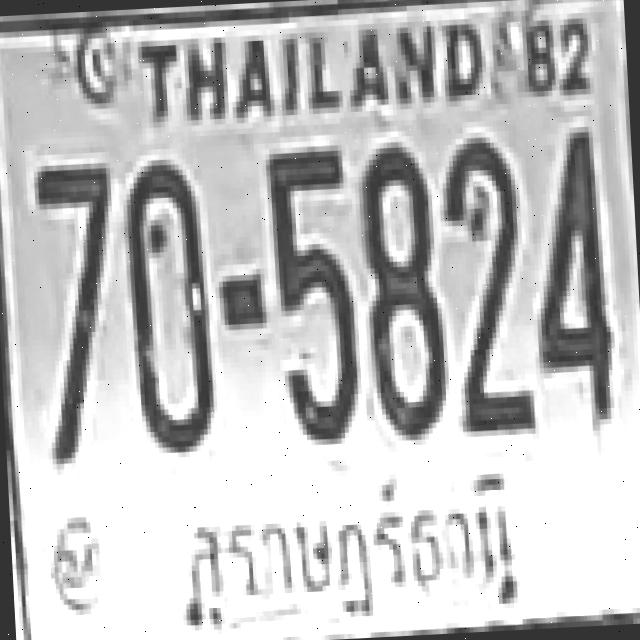0: (121, 155, 216, 452)
2: (442, 148, 530, 432), (442, 134, 529, 418)
4: (526, 124, 614, 426)
5: (264, 145, 358, 442)
7: (33, 158, 121, 454), (33, 157, 119, 421), (33, 158, 116, 362)
8: (356, 140, 444, 437)
SuratThani: (168, 469, 526, 631)
